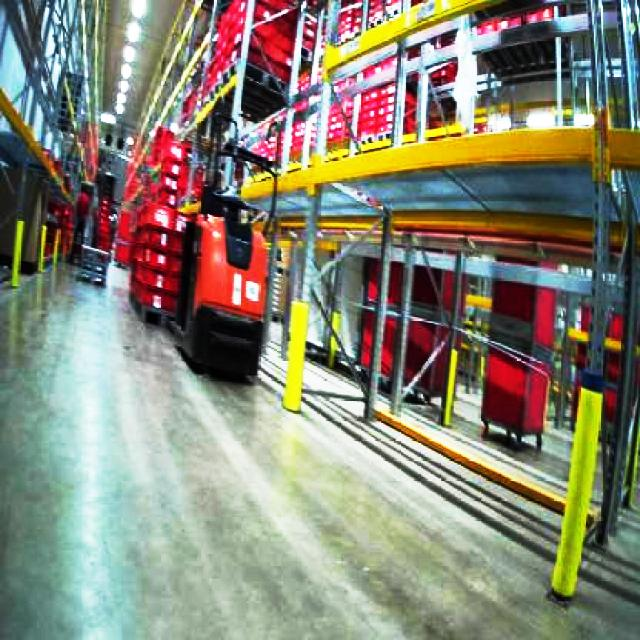ground: (0, 249, 638, 638)
pallet: (192, 0, 638, 628), (274, 220, 638, 498), (123, 126, 197, 326), (477, 342, 552, 451), (128, 203, 188, 323), (75, 243, 109, 285)
